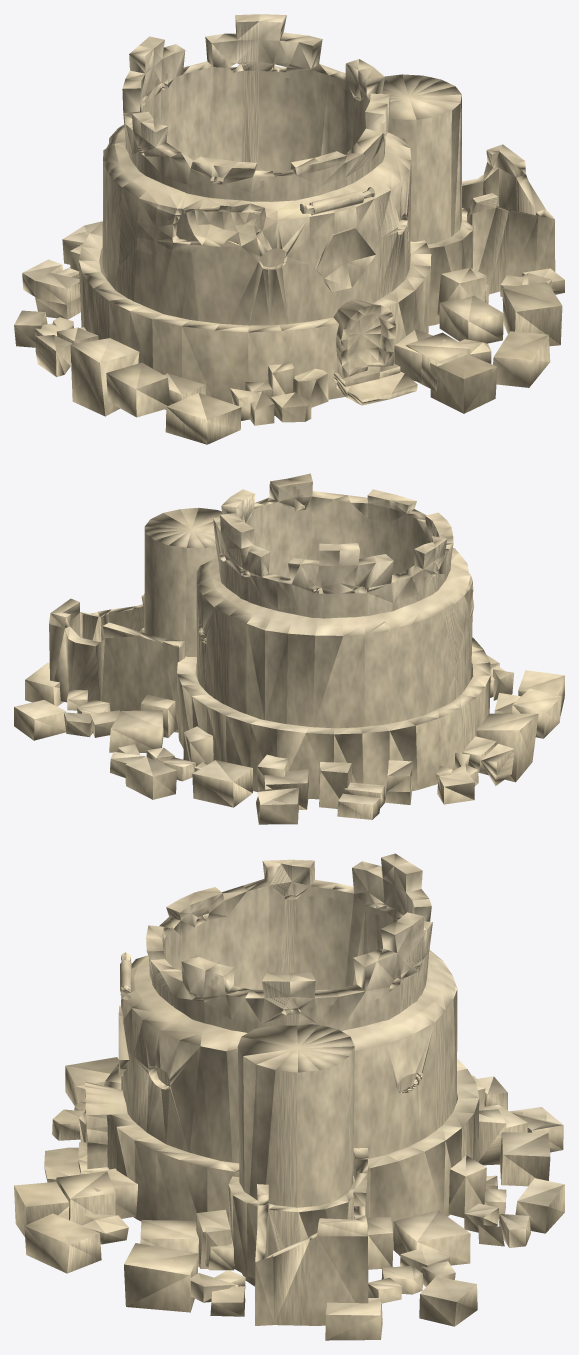
The picture shows the model from 3 angles, top to bottom: view 1: azimuth 30°, elevation 25°; view 2: azimuth 150°, elevation 25°; view 3: azimuth 270°, elevation 25°; orthographic projection. The views are drawn at different scales.
Visible parts, largest first — view 1: castle_d3.5; view 2: castle_d3.5; view 3: castle_d3.5.
Part boxes in pixels (bbox=[...]): castle_d3.5: bbox=[14, 14, 564, 444]; castle_d3.5: bbox=[14, 473, 564, 824]; castle_d3.5: bbox=[14, 853, 564, 1340].
Bounding box in the file's own units: 2.9 × 1.52 × 2.55.
Materials: 1 (1 with a texture image).
